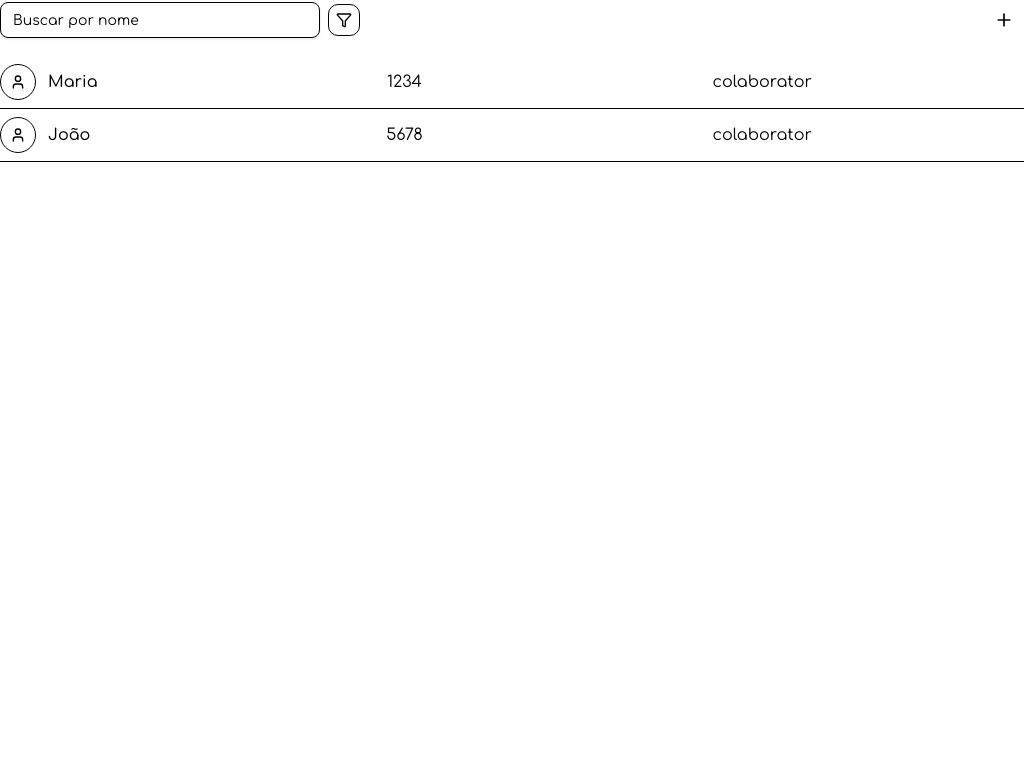
Test case: UserManager › blocks create when code is already used by another user
This screenshot has width=1024, height=768.
Click the button named "Novo usuário" at [1004, 20], box [984,0,1023,40]
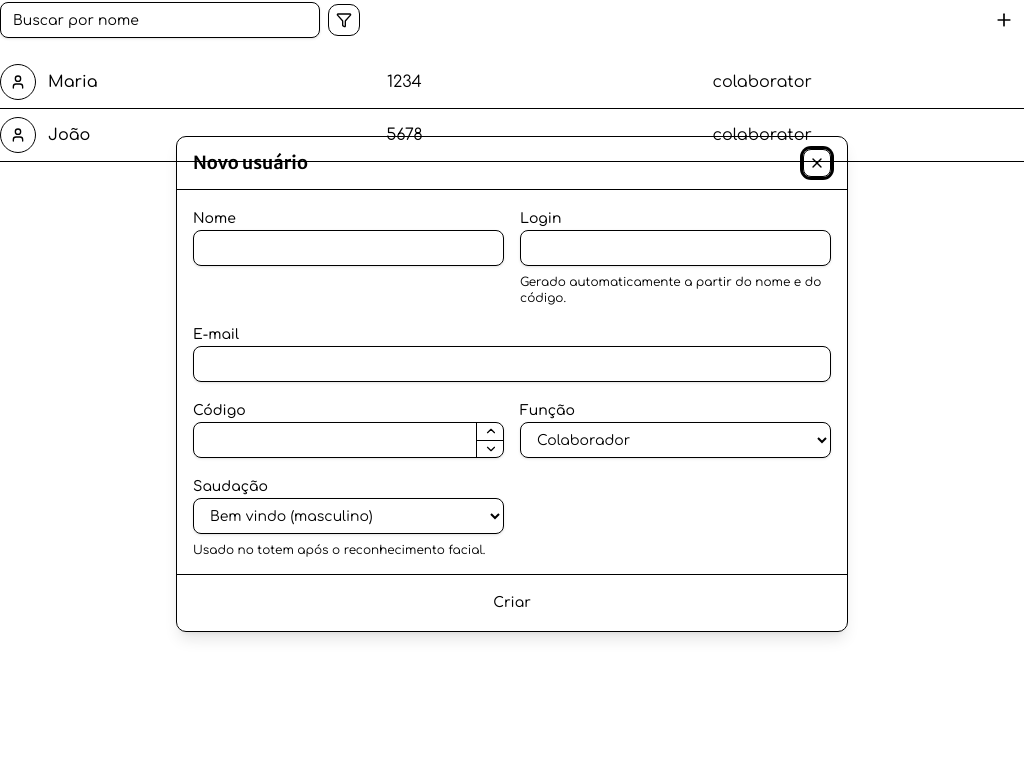
Type "Ana" into the field labelled "Nome" at [348, 248], box [193,230,504,266]
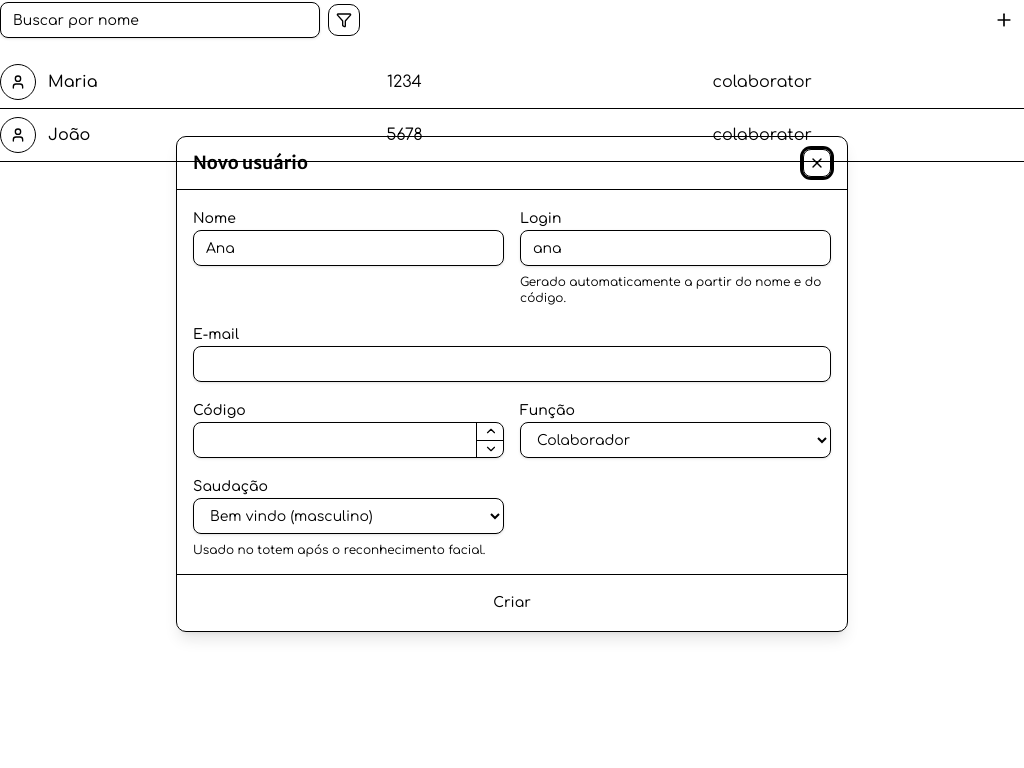
Type "ana@example.com" into the field labelled "E-mail" at [512, 364], box [193,346,831,382]
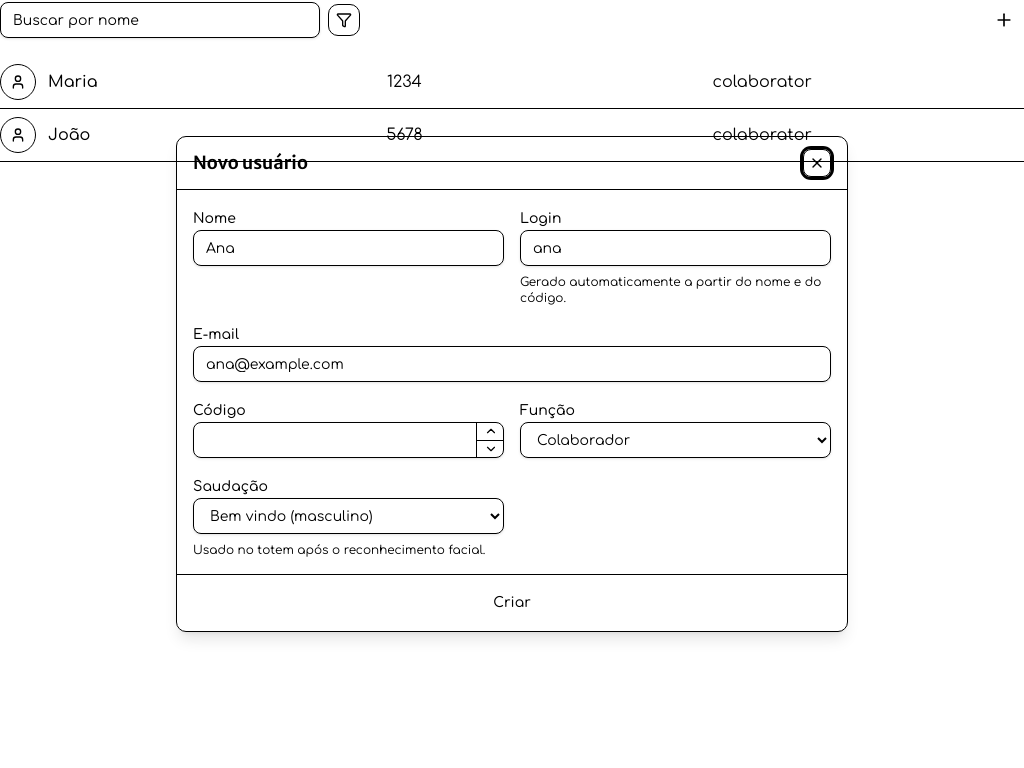
Type "1234" into the number field labelled "Código" at [348, 440], box [193,422,504,458]
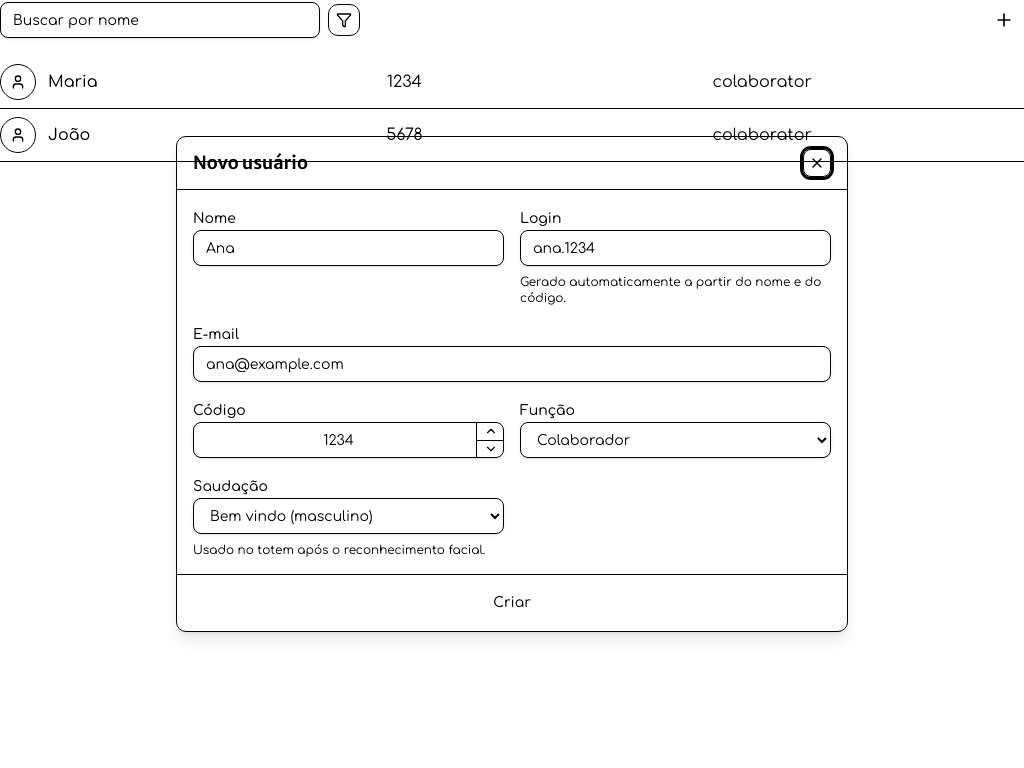
Click the button "Criar" at [512, 603], box [482,587,542,619]
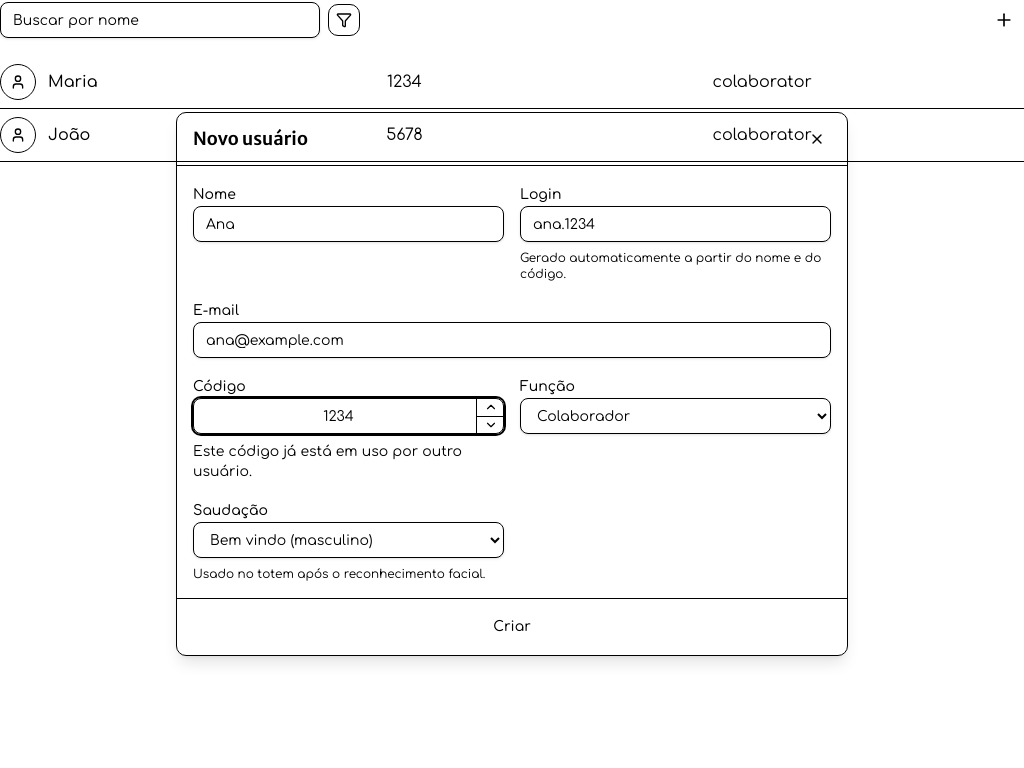
Result: the text "Este código já está em uso por outro usuário." is shown at [193,442,504,482]
